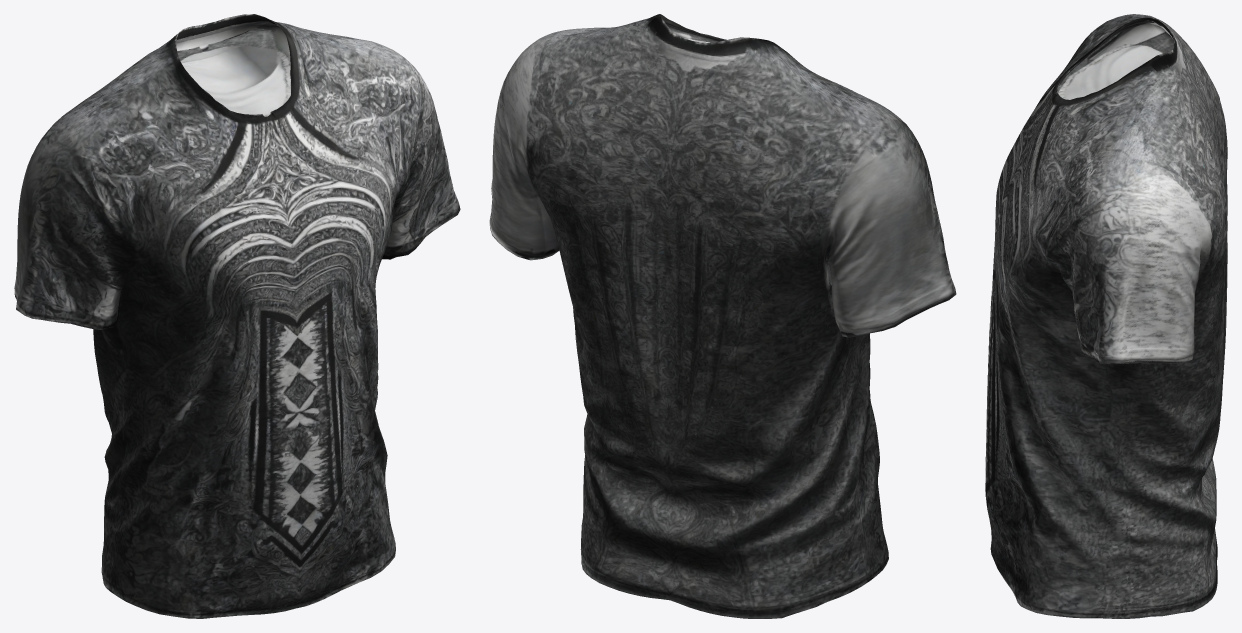
The model's file is shirt10.glb.
3 views of the same model, side by side, from view 1: azimuth 30°, elevation 25°; view 2: azimuth 150°, elevation 25°; view 3: azimuth 270°, elevation 25° (orthographic). The views are drawn at different scales.
Size of the model in its own units: 1.75 by 2.01 by 0.8348.
Materials: 1 (1 with a texture image).
